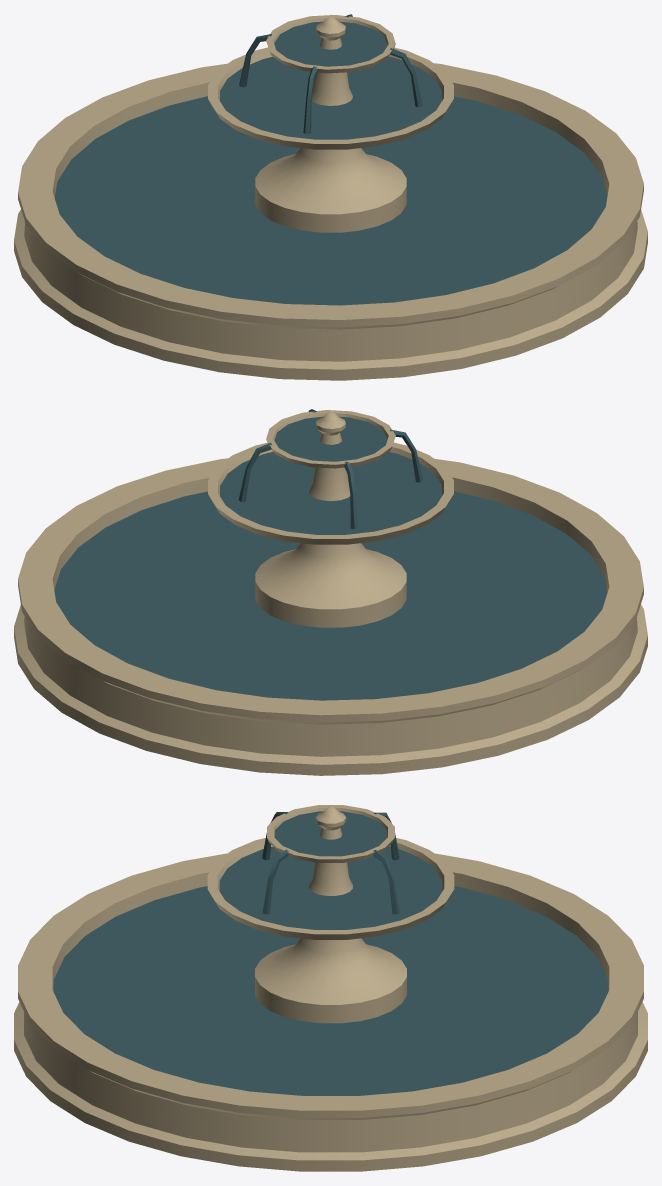
Rendered from mon_fountain.glb.
The picture shows the model from 3 angles, top to bottom: view 1: azimuth 30°, elevation 25°; view 2: azimuth 150°, elevation 25°; view 3: azimuth 270°, elevation 25°; orthographic projection.
Parts seen in each view (by area): view 1: mon_fountain; view 2: mon_fountain; view 3: mon_fountain.
Part boxes in pixels (box(x1,y1,x2,y2)): mon_fountain: box(14, 14, 647, 380); mon_fountain: box(14, 409, 647, 775); mon_fountain: box(14, 805, 647, 1171).
Size of the model in its own units: 6.21 by 2.52 by 6.21.
